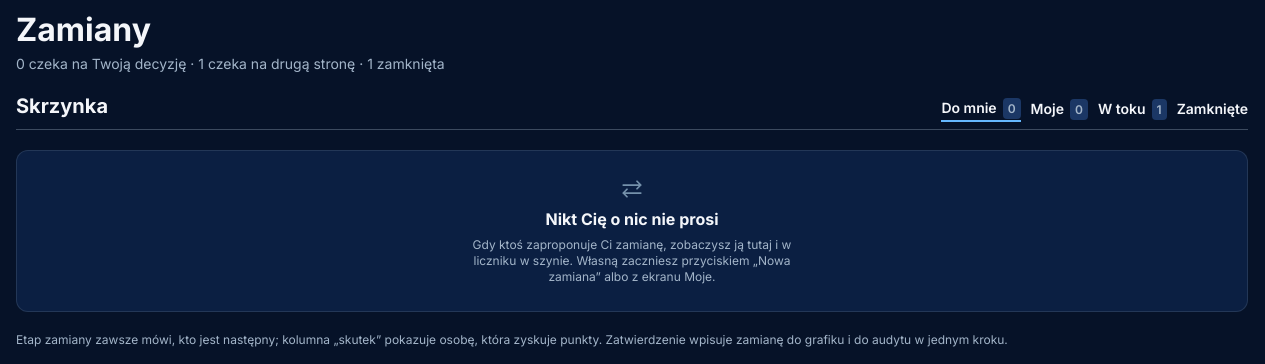
SwapPanel without the coordinator approval › gives a coordinator the members' "W toku" inbox, since nothing waits for them
Expected: the text "0 czeka na Twoją decyzję · 1 czeka na drugą stronę · 1 zamknięta" is shown, [16,53,445,74]
What coordinates should you click on to do the following:
click the button "W toku1"
I would click on:
 (1132, 110)
Its box is [1098,98,1167,122].
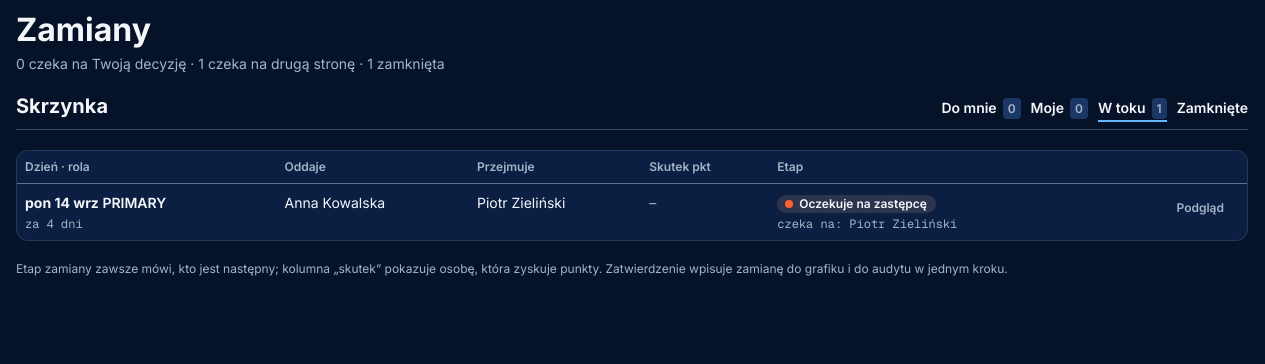
Expected: the text "czeka na: Piotr Zieliński" is shown, [777,216,957,232]
